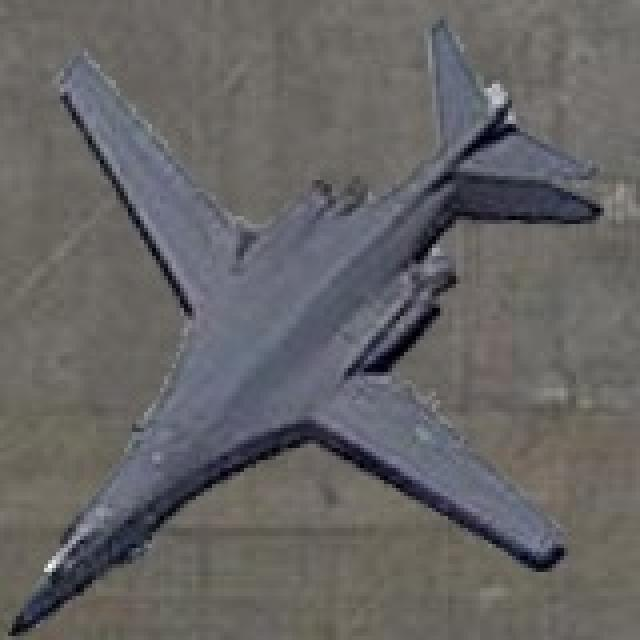B-1_TopDown: (0, 12, 604, 636)
